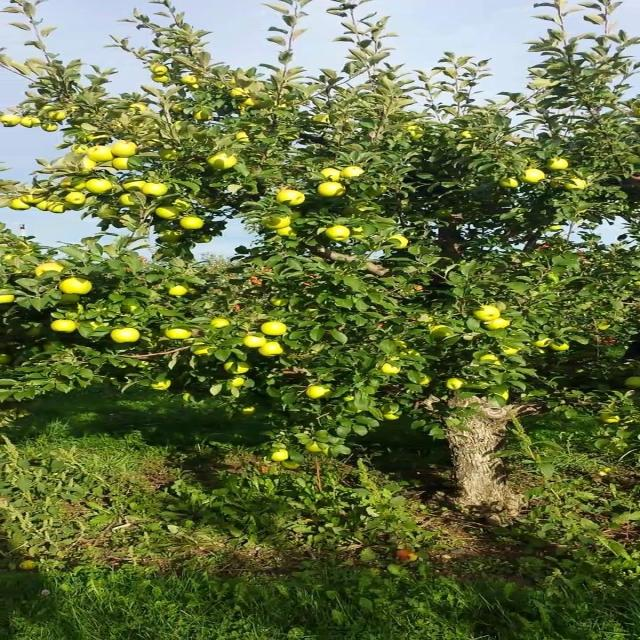apple: (205, 152, 240, 169), (276, 192, 306, 208), (113, 328, 142, 344), (63, 280, 92, 296), (141, 184, 171, 198), (262, 216, 292, 230), (319, 184, 348, 198), (35, 264, 64, 277), (525, 168, 548, 184), (77, 160, 100, 176), (326, 228, 350, 243), (92, 180, 114, 196), (92, 148, 114, 164), (63, 176, 85, 192), (163, 328, 192, 340), (305, 388, 334, 400), (476, 308, 501, 321), (262, 324, 288, 336), (191, 344, 217, 356), (227, 364, 252, 376), (113, 144, 137, 156), (340, 168, 364, 180), (156, 208, 180, 220), (56, 320, 78, 333), (319, 168, 341, 181), (262, 344, 284, 357), (20, 116, 43, 128), (127, 180, 148, 193), (390, 236, 411, 249), (433, 328, 455, 340), (547, 160, 569, 172), (184, 220, 206, 232), (490, 320, 512, 332), (163, 232, 185, 244), (99, 208, 121, 220), (276, 228, 299, 239), (383, 364, 404, 376), (568, 180, 590, 191), (248, 336, 268, 348), (504, 344, 524, 356), (447, 380, 468, 391), (113, 160, 132, 172), (70, 192, 87, 205), (170, 284, 188, 296), (28, 192, 46, 204), (305, 444, 329, 453), (56, 296, 82, 304), (269, 452, 292, 461), (13, 200, 30, 212), (234, 132, 251, 144), (383, 408, 400, 420), (120, 196, 135, 208), (156, 380, 171, 392), (6, 116, 21, 128), (49, 204, 69, 213), (412, 128, 427, 140), (212, 320, 233, 328), (476, 356, 500, 363), (234, 88, 249, 99), (177, 200, 192, 211), (84, 136, 107, 143), (49, 112, 69, 120), (28, 328, 44, 338), (355, 228, 368, 240), (120, 216, 133, 228), (241, 100, 258, 109), (305, 444, 324, 452), (532, 340, 551, 348), (433, 212, 452, 220), (156, 64, 171, 74), (604, 416, 622, 424), (163, 152, 180, 160), (42, 124, 59, 132), (312, 116, 329, 124), (127, 304, 142, 313), (419, 376, 434, 385), (170, 104, 185, 113), (625, 380, 638, 390), (284, 132, 300, 140), (504, 180, 519, 188), (198, 112, 213, 120), (554, 344, 569, 352), (156, 76, 171, 84), (134, 104, 149, 112), (461, 132, 476, 140), (184, 76, 199, 84), (241, 408, 256, 416), (198, 236, 213, 244), (497, 392, 512, 400), (276, 300, 290, 308), (596, 324, 612, 331), (284, 464, 299, 471), (234, 380, 247, 388), (191, 84, 203, 92), (77, 148, 89, 155), (42, 204, 50, 212), (6, 296, 14, 304), (547, 228, 562, 232), (51, 344, 57, 348)
